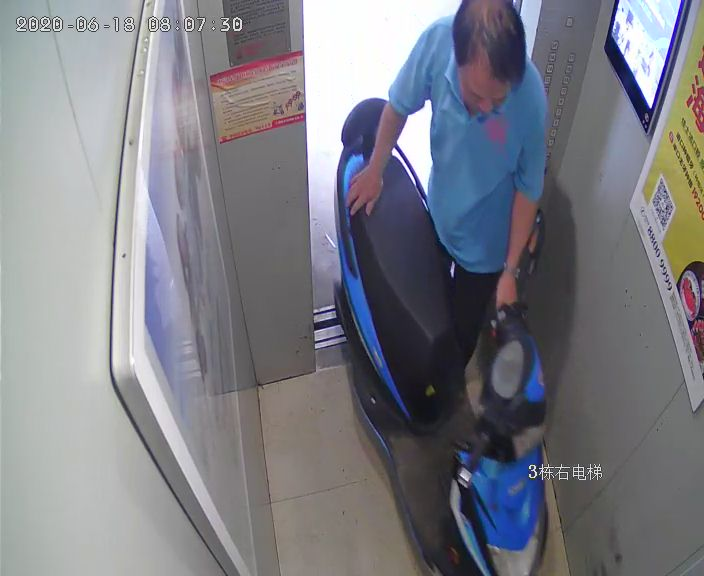Electric-bicycle: (335, 96, 548, 576)
